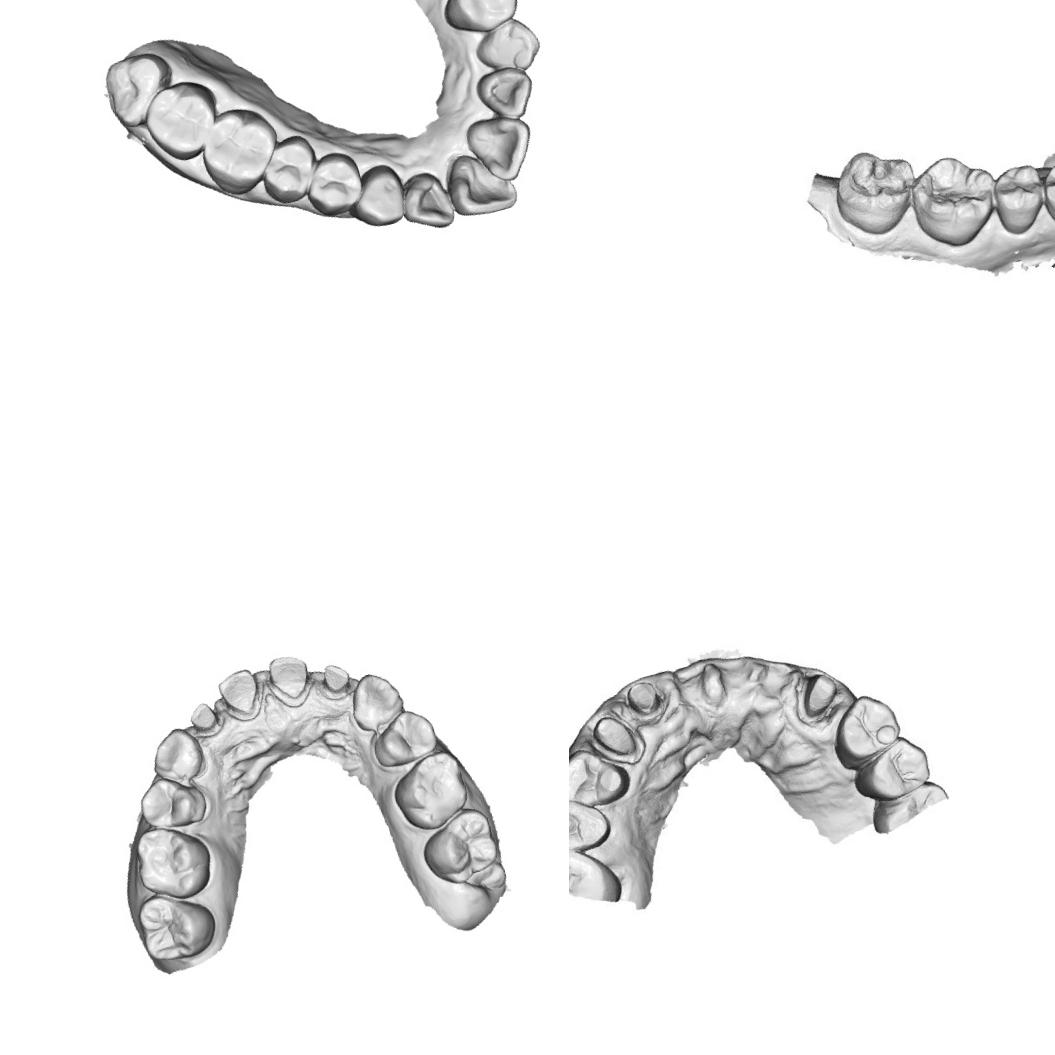canine: (468, 11, 547, 83), (340, 158, 412, 233), (340, 663, 412, 736), (142, 720, 210, 792)
crown: (259, 645, 320, 713), (212, 661, 268, 727), (794, 667, 842, 724), (591, 710, 638, 766), (621, 670, 668, 724), (314, 655, 356, 700), (184, 697, 224, 740)
incisor: (440, 141, 524, 224), (460, 103, 540, 188), (394, 162, 460, 238), (468, 60, 542, 127)
inlay: (842, 145, 914, 212)
molar: (190, 98, 290, 202), (902, 146, 1002, 243), (136, 73, 229, 169), (126, 814, 219, 910), (381, 746, 478, 838), (131, 880, 224, 970), (412, 802, 505, 892), (96, 40, 184, 132)
premolar: (817, 689, 906, 773), (844, 730, 937, 809), (981, 154, 1055, 239), (250, 128, 326, 209), (131, 766, 213, 838), (297, 146, 369, 221), (364, 702, 443, 770), (569, 741, 629, 810), (432, 0, 525, 42), (569, 789, 610, 861), (1037, 155, 1055, 236)
